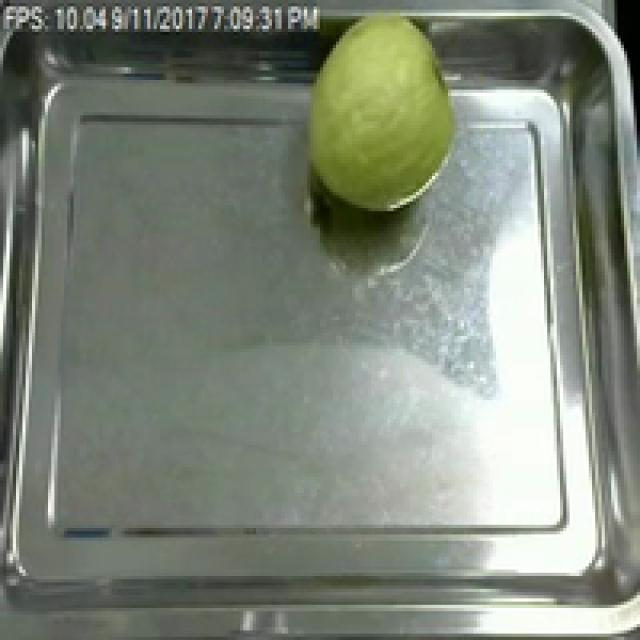Fruit: (294, 3, 468, 224)
